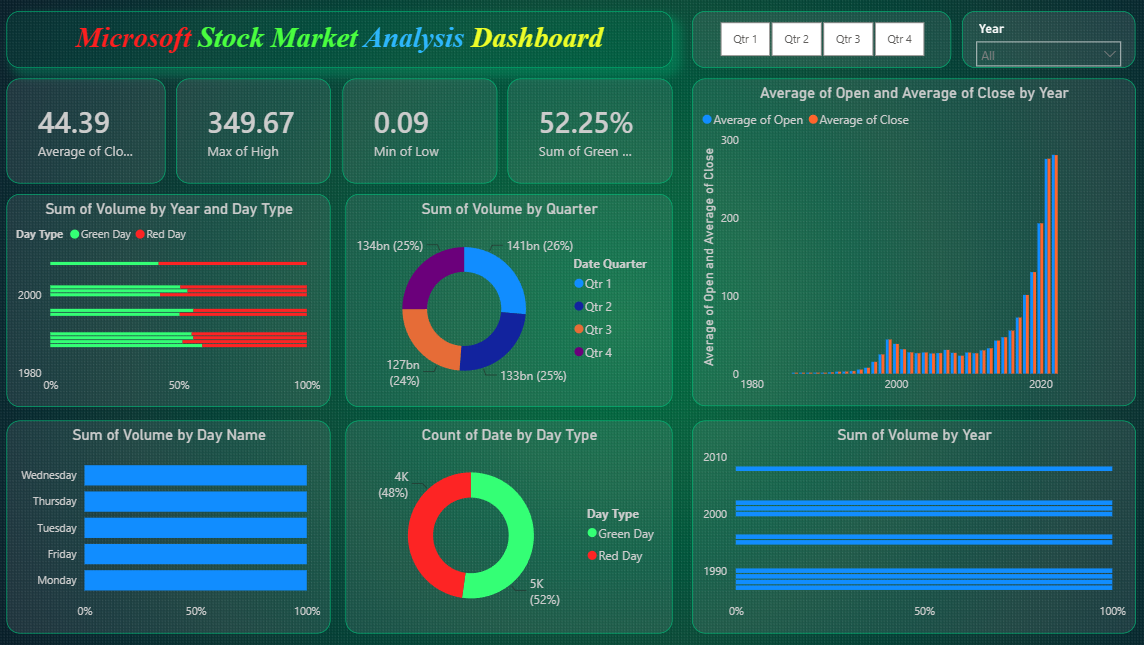

The page's visual inventory and layout, read from the dashboard file:
{"tool":"powerbi","page":{"name":"Page 1","canvas":[1280,720],"ordinal":0},"visuals":[{"type":"clusteredColumnChart","fields":{"Category":["MSFT.Date.Variation.Date Hierarchy.Year"],"Y":["Avg(MSFT.Open)","Avg(MSFT.Close)"]},"box":[773,89.1,493.1,364.2],"z":0},{"type":"hundredPercentStackedBarChart","fields":{"Y":["Sum(MSFT.Volume)"],"Category":["MSFT.Date.Variation.Date Hierarchy.Year"]},"box":[773.3,468.3,493.3,236.7],"z":1000},{"type":"textbox","box":[11.7,13.3,740,63.3],"z":2000},{"type":"donutChart","fields":{"Category":["MSFT.Day Type"],"Y":["CountNonNull(MSFT.Date)"]},"box":[388.3,468.3,363.3,236.7],"z":3000},{"type":"donutChart","fields":{"Category":["MSFT.Date.Variation.Date Hierarchy.Quarter"],"Y":["Sum(MSFT.Volume)"]},"box":[388.3,216.7,363.3,236.7],"z":4000},{"type":"hundredPercentStackedBarChart","fields":{"Category":["MSFT.Date.Variation.Date Hierarchy.Year"],"Y":["Sum(MSFT.Volume)"],"Series":["MSFT.Day Type"]},"box":[11.7,216.7,360,236.7],"z":5000},{"type":"hundredPercentStackedBarChart","fields":{"Category":["MSFT.Day Name"],"Y":["Sum(MSFT.Volume)"]},"box":[11.7,468.3,360,236.7],"z":6000},{"type":"slicer","fields":{"Values":["MSFT.Date.Variation.Date Hierarchy.Quarter"]},"box":[773,12.7,287.9,63.6],"z":7000},{"type":"cardVisual","fields":{"Data":["Avg(MSFT.Close)"]},"box":[11.7,88.3,176.7,116.7],"z":8000},{"type":"cardVisual","fields":{"Data":["Max(MSFT.High)"]},"box":[200,88.3,171.7,116.7],"z":9000},{"type":"cardVisual","fields":{"Data":["Min(MSFT.Low)"]},"box":[385,88.3,171.7,116.7],"z":10000},{"type":"cardVisual","fields":{"Data":["Sum(MSFT.Green Day %)"]},"box":[568.3,88.3,183.3,116.7],"z":11000},{"type":"slicer","fields":{"Values":["MSFT.Date.Variation.Date Hierarchy.Year"]},"box":[1073.7,12.7,192.5,63.6],"z":12000}]}

Visuals, with their boxes in screenshot pixels (x1, y1, x2, y2), scaled from the page's 1280x720 canvas onto the 1144x645 screenshot:
clusteredColumnChart - MSFT.Date.Variation.Date Hierarchy.Year x Avg(MSFT.Open): detection(691, 80, 1132, 406)
hundredPercentStackedBarChart - Sum(MSFT.Volume) x MSFT.Date.Variation.Date Hierarchy.Year: detection(691, 420, 1132, 632)
textbox: detection(10, 12, 672, 69)
donutChart - MSFT.Day Type x CountNonNull(MSFT.Date): detection(347, 420, 672, 632)
donutChart - MSFT.Date.Variation.Date Hierarchy.Quarter x Sum(MSFT.Volume): detection(347, 194, 672, 406)
hundredPercentStackedBarChart - MSFT.Date.Variation.Date Hierarchy.Year x Sum(MSFT.Volume): detection(10, 194, 332, 406)
hundredPercentStackedBarChart - MSFT.Day Name x Sum(MSFT.Volume): detection(10, 420, 332, 632)
slicer - MSFT.Date.Variation.Date Hierarchy.Quarter: detection(691, 11, 948, 68)
cardVisual - Avg(MSFT.Close): detection(10, 79, 168, 184)
cardVisual - Max(MSFT.High): detection(179, 79, 332, 184)
cardVisual - Min(MSFT.Low): detection(344, 79, 498, 184)
cardVisual - Sum(MSFT.Green Day %): detection(508, 79, 672, 184)
slicer - MSFT.Date.Variation.Date Hierarchy.Year: detection(960, 11, 1132, 68)
